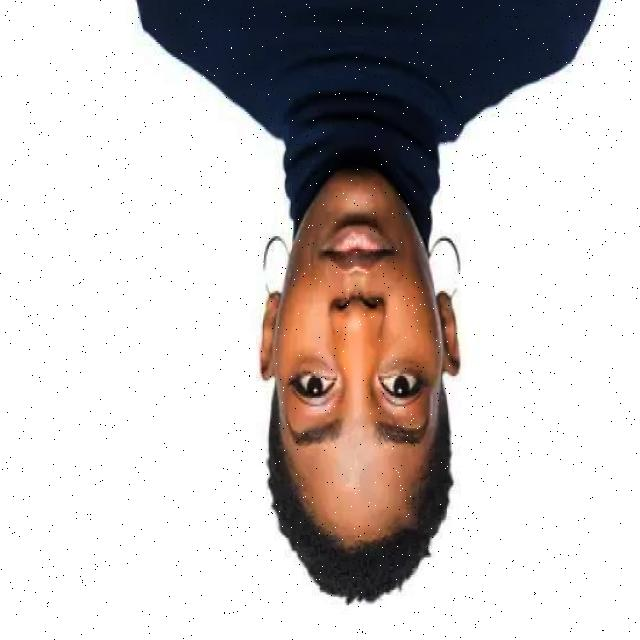puffy_eyes: (295, 360, 331, 375)
